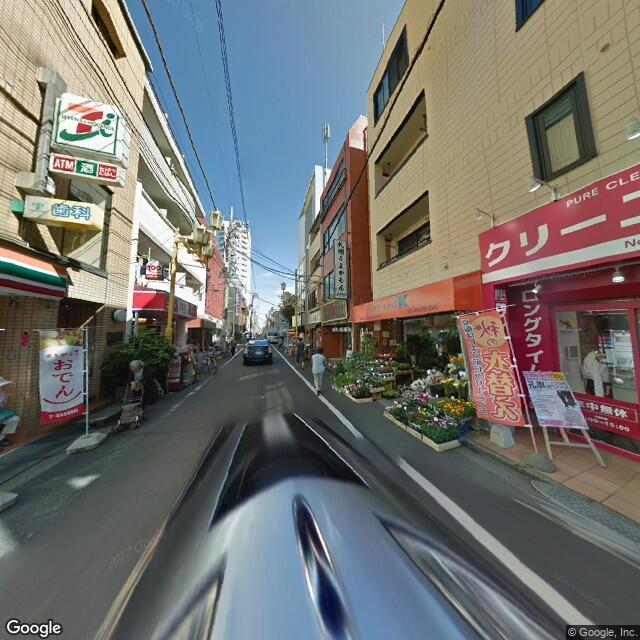7-eleven: (1, 243, 68, 303), (58, 91, 117, 154)
